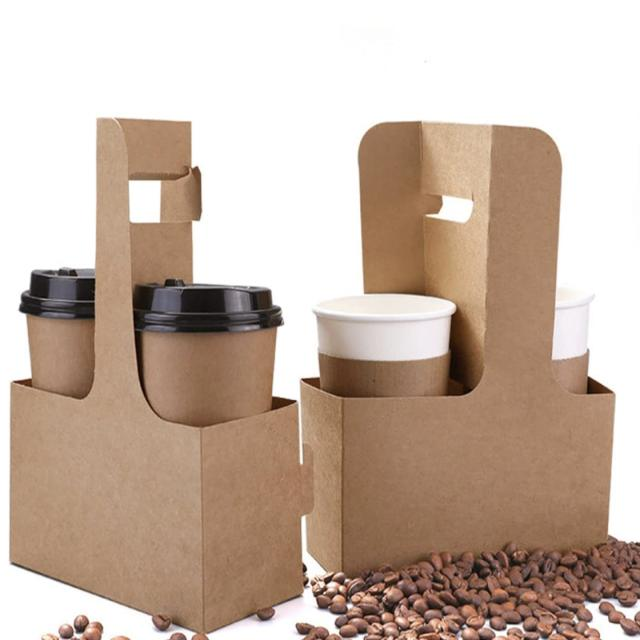biodegradable: (7, 82, 306, 636), (301, 97, 618, 581)
